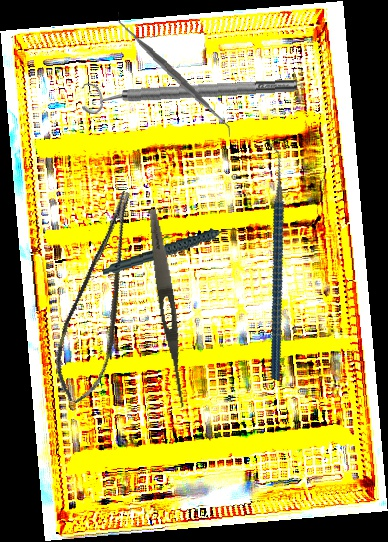Chopper: (188, 137, 356, 382)
Dressing Forceps: (143, 208, 193, 409)
Fixation Ring: (80, 69, 298, 116)
Handpiece: (99, 225, 243, 276)
Micro Scissor: (38, 187, 170, 410)
Spatula Surgical: (110, 11, 238, 138)
